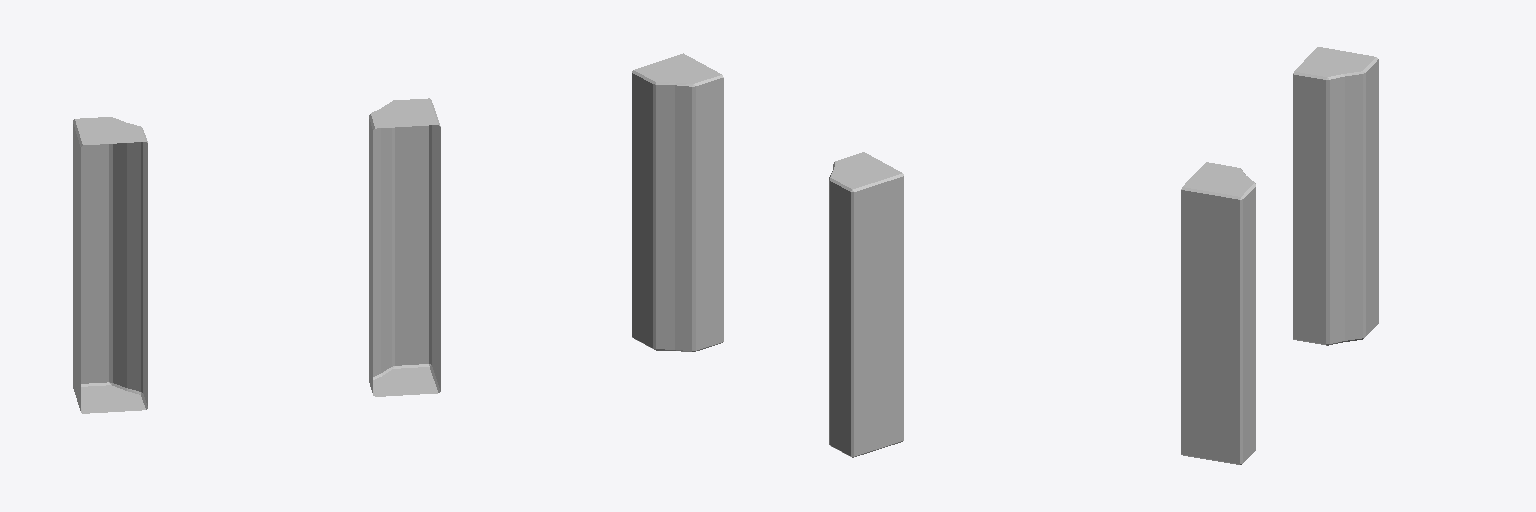
3 views of the same model, side by side, from view 1: azimuth 30°, elevation 25°; view 2: azimuth 150°, elevation 25°; view 3: azimuth 270°, elevation 25° (orthographic).
Parts seen in each view (by area): view 1: Bistro_Research_Exterior_paris_building_11_5741; view 2: Bistro_Research_Exterior_paris_building_11_5741; view 3: Bistro_Research_Exterior_paris_building_11_5741.
Boxes of the visible parts, <box> form: Bistro_Research_Exterior_paris_building_11_5741: <box>73,98,440,413</box>; Bistro_Research_Exterior_paris_building_11_5741: <box>632,53,903,457</box>; Bistro_Research_Exterior_paris_building_11_5741: <box>1181,47,1378,464</box>.
Bounding box in the file's own units: 2.61 × 2.14 × 1.43.